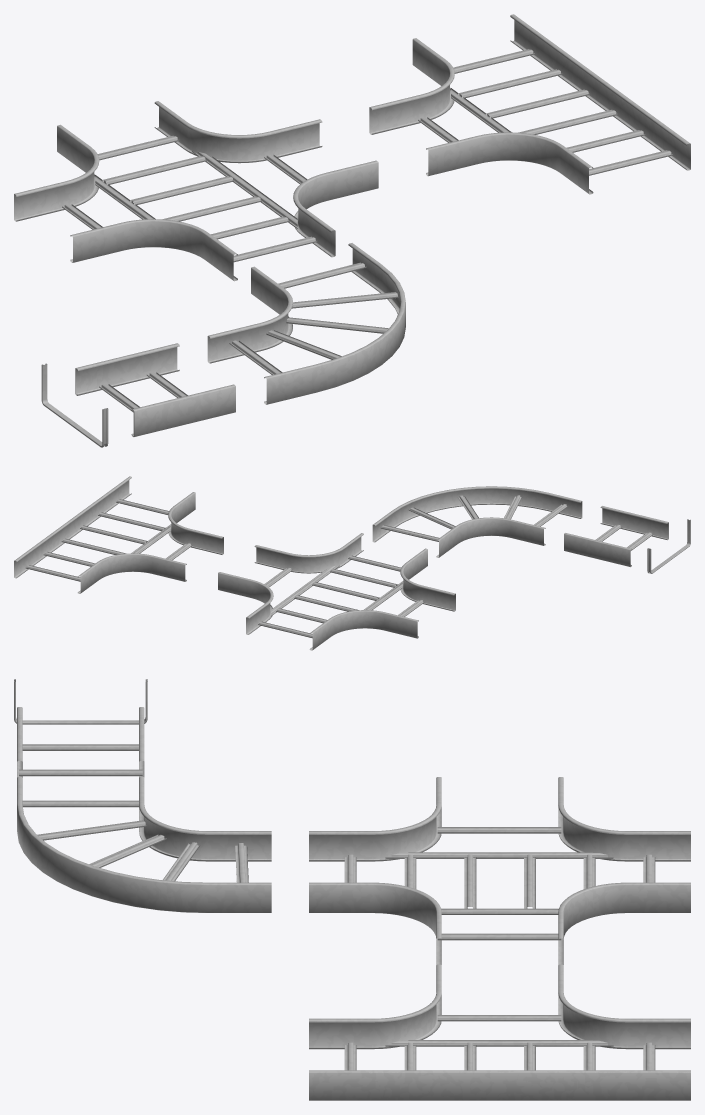
Rendered from Kabelrost.fbx.
The picture shows the model from 3 angles, top to bottom: view 1: azimuth 30°, elevation 25°; view 2: azimuth 150°, elevation 25°; view 3: azimuth 270°, elevation 25°; orthographic projection. The views are drawn at different scales.
Parts seen in each view (by area): view 1: X, T, L, I, U; view 2: X, T, L, I, U; view 3: T, X, L, I, U.
Part boxes in pixels (<box>): X: <box>14,101,378,281</box>; T: <box>369,14,690,194</box>; L: <box>207,243,405,404</box>; I: <box>75,343,235,436</box>; U: <box>41,363,108,447</box>; X: <box>218,533,455,650</box>; T: <box>14,476,223,593</box>; L: <box>372,486,582,557</box>; I: <box>564,506,668,567</box>; U: <box>647,519,690,573</box>; T: <box>309,964,690,1100</box>; X: <box>309,777,690,964</box>; L: <box>17,777,271,912</box>; I: <box>17,707,144,777</box>; U: <box>14,679,147,724</box>.
Bounding box in the file's own units: 426 × 22.19 × 319.
Materials: 1 (1 with a texture image).
